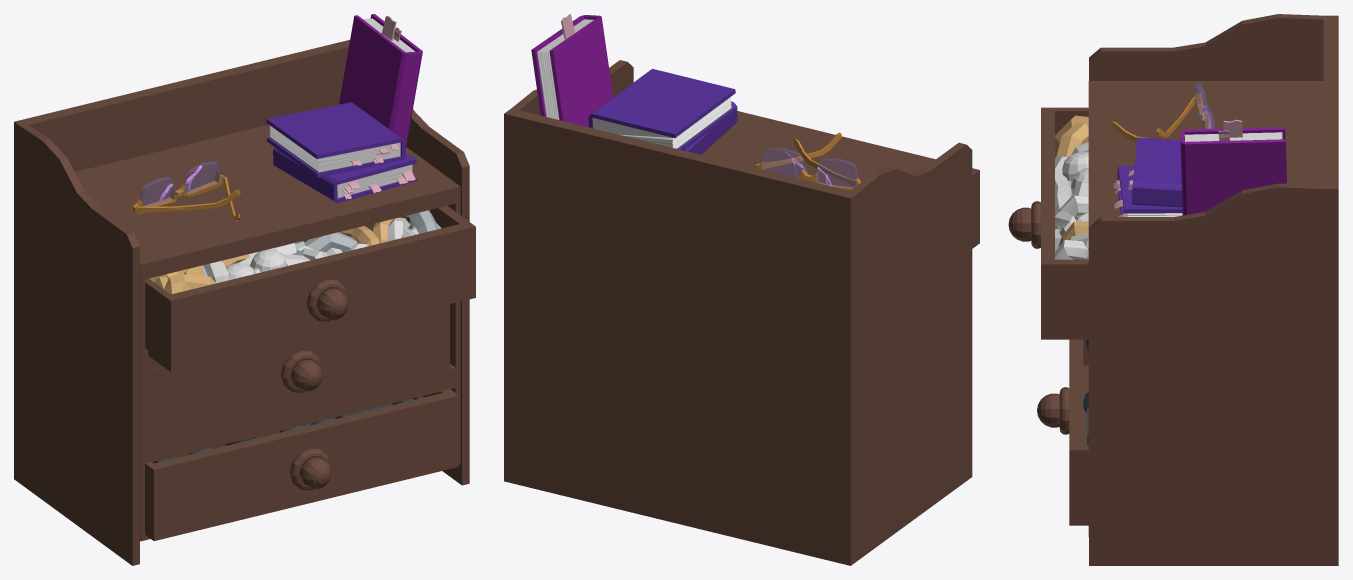
File: clothdrawer.gltf
3 views of the same model, side by side, from view 1: azimuth 30°, elevation 25°; view 2: azimuth 150°, elevation 25°; view 3: azimuth 270°, elevation 25° (orthographic). The views are drawn at different scales.
Parts seen in each view (by area): view 1: node_MeshObject-1547821056-PolyPaper20, node_MeshObject-2111152128-PolyGlass24; view 2: node_MeshObject-1547821056-PolyPaper20, node_MeshObject-2111152128-PolyGlass24; view 3: node_MeshObject-1547821056-PolyPaper20, node_MeshObject-2111152128-PolyGlass24.
Part boxes in pixels (box(x1,y1,x2,y2)): node_MeshObject-1547821056-PolyPaper20: box(14, 14, 475, 565); node_MeshObject-2111152128-PolyGlass24: box(139, 161, 219, 206); node_MeshObject-1547821056-PolyPaper20: box(504, 14, 979, 565); node_MeshObject-2111152128-PolyGlass24: box(762, 148, 857, 188); node_MeshObject-1547821056-PolyPaper20: box(1008, 14, 1338, 565); node_MeshObject-2111152128-PolyGlass24: box(1195, 82, 1215, 128).
Bounding box in the file's own units: 2.22 × 2.63 × 1.79.
